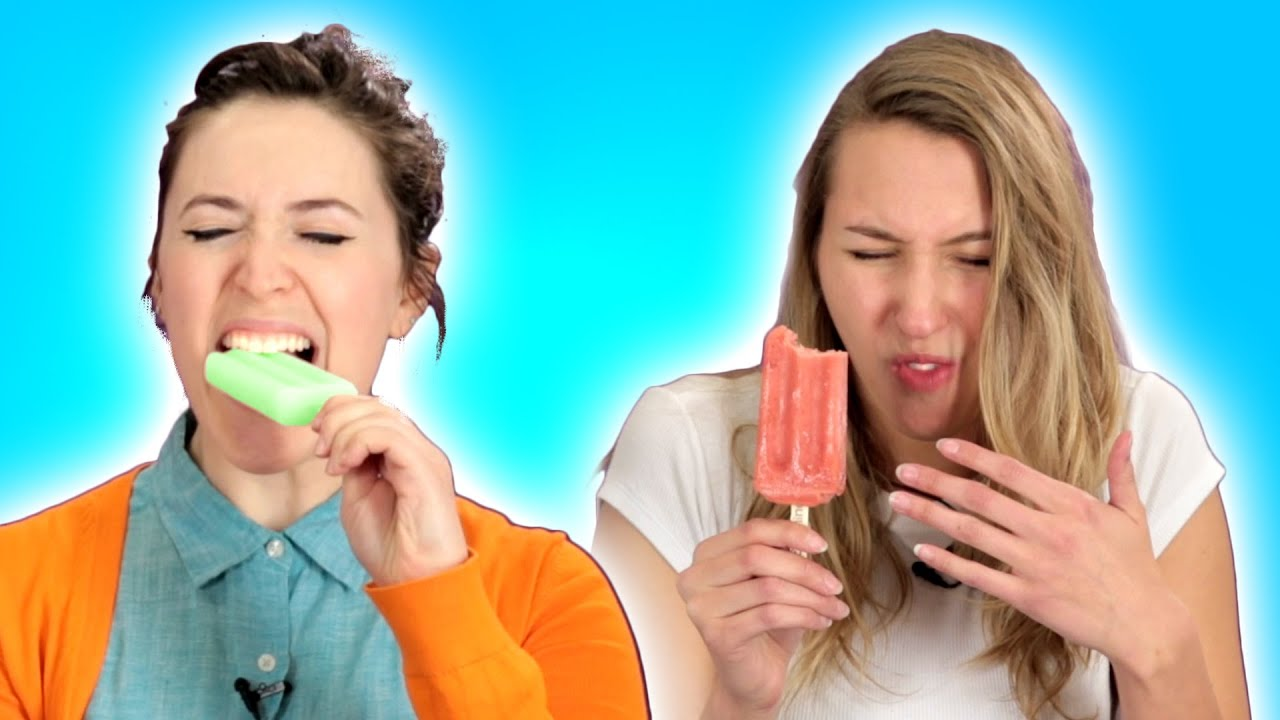eating: (113, 38, 504, 563)
